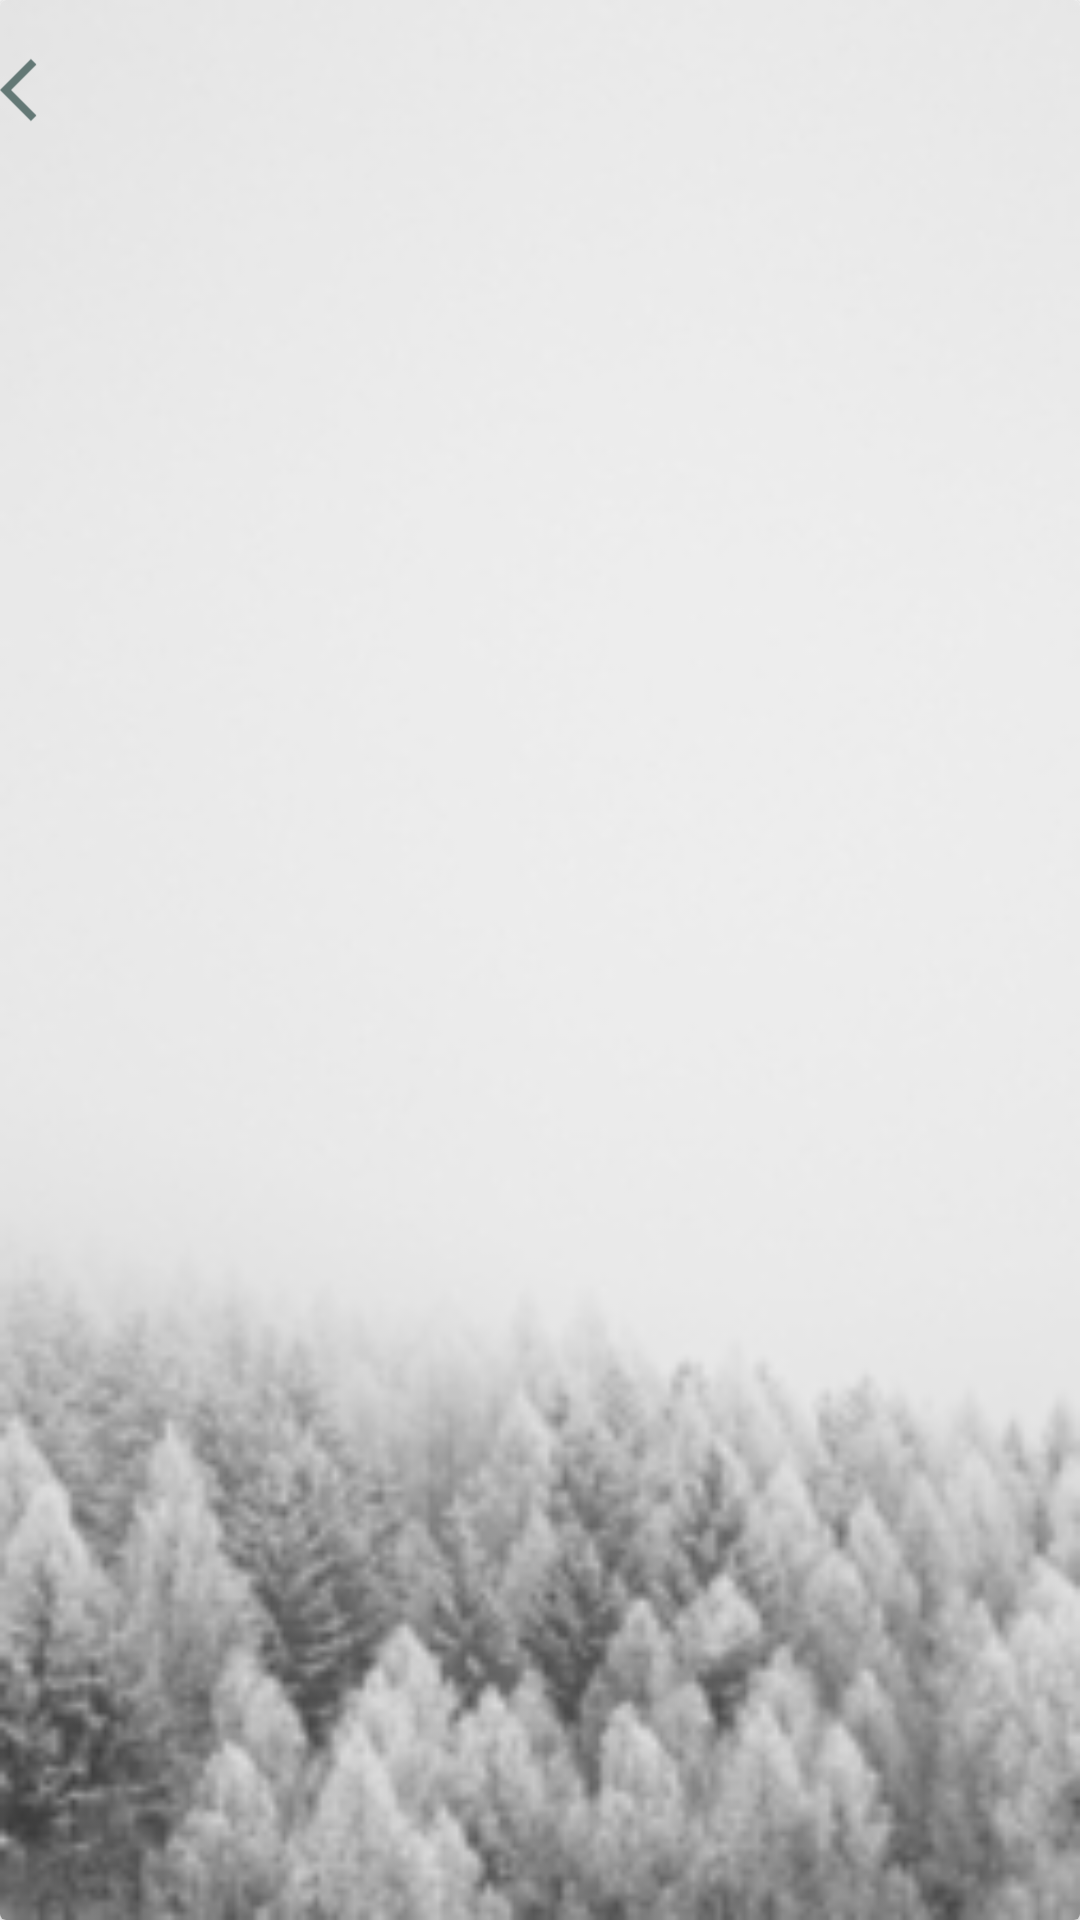

Locate icon controls on the screen. Image size 1080w x 1920h, boxes as [x1=x1, y1=y1, x2=x2, y2=y2].
back: [x1=0, y1=59, x2=36, y2=121]
